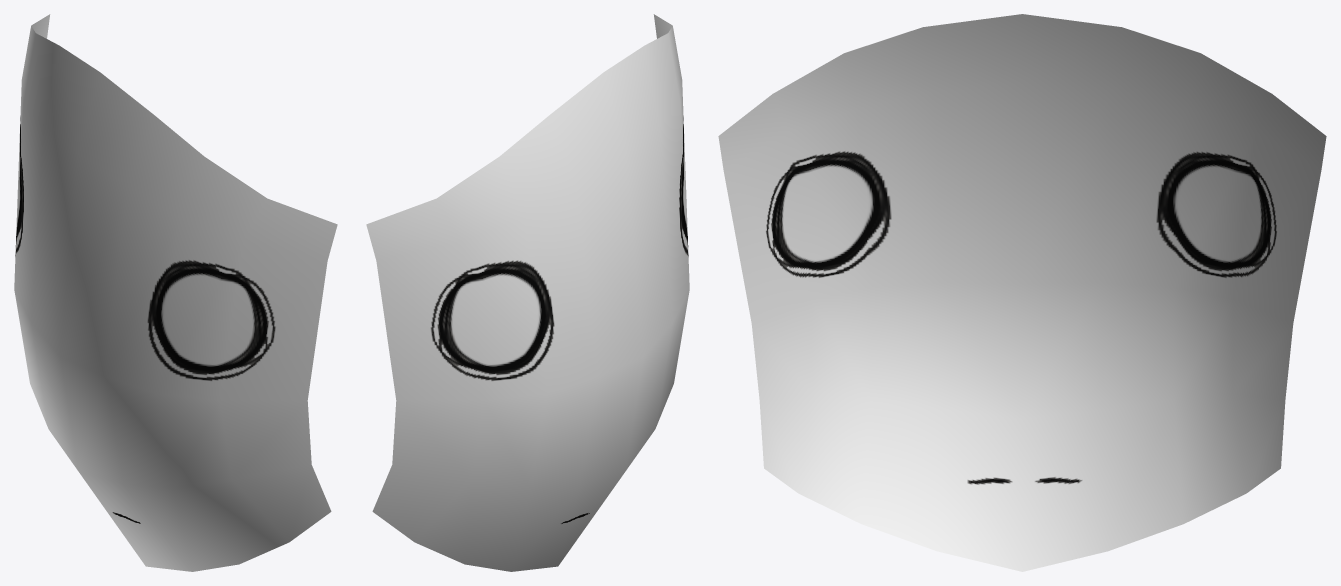
File: Hooded Guy Eyes Card.fbx
The picture shows the model from 3 angles, left to right: view 1: azimuth 30°, elevation 25°; view 2: azimuth 150°, elevation 25°; view 3: azimuth 270°, elevation 25°; orthographic projection. The views are drawn at different scales.
Parts seen in each view (by area): view 1: Hooded Guy Eyes Card; view 2: Hooded Guy Eyes Card; view 3: Hooded Guy Eyes Card.
Boxes of the visible parts, x1,y1,x2,y2 form: Hooded Guy Eyes Card: (14,14,337,571); Hooded Guy Eyes Card: (366,14,689,571); Hooded Guy Eyes Card: (718,14,1326,571).
Size of the model in its own units: 0.1796 by 0.6006 by 0.5825.
Materials: 1 (1 with a texture image).
